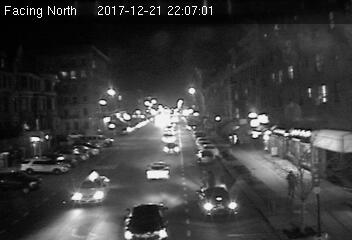car: (122, 202, 167, 240), (196, 185, 237, 218), (73, 171, 110, 204), (145, 160, 170, 177), (193, 148, 216, 164), (163, 142, 179, 155), (161, 132, 176, 143)
